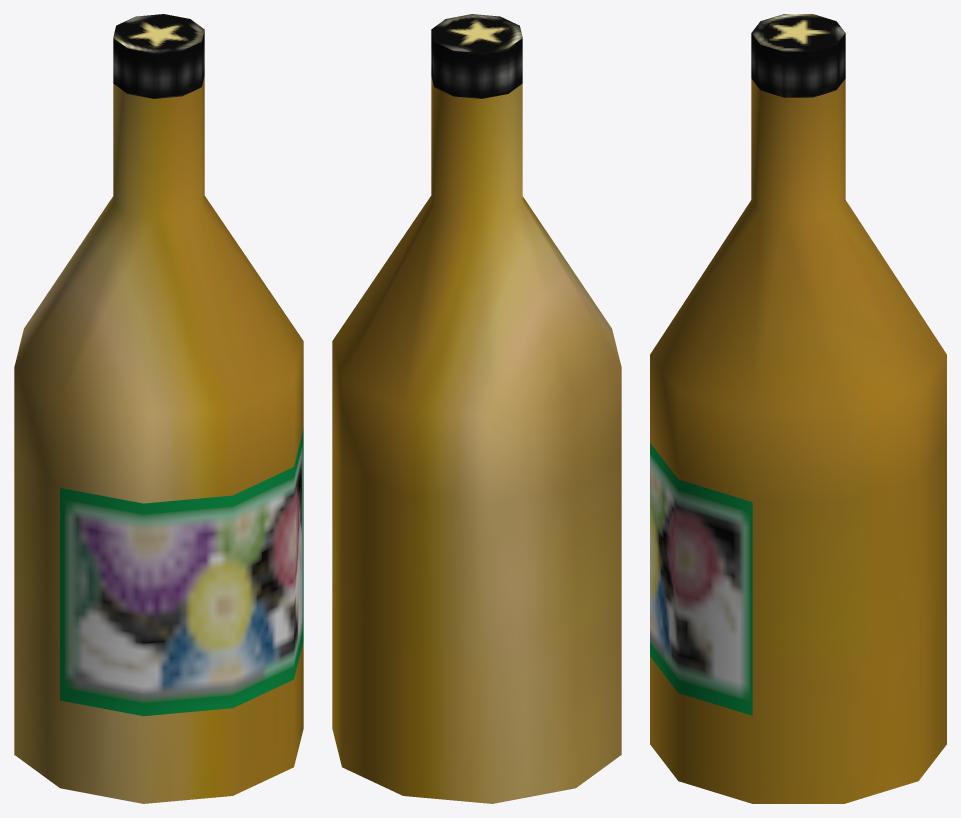
The model's file is giftgoods082d.fbx.
3 renders of one model, left to right at view 1: azimuth 30°, elevation 25°; view 2: azimuth 150°, elevation 25°; view 3: azimuth 270°, elevation 25°, orthographic.
Visible parts, largest first — view 1: giftgoods082d; view 2: giftgoods082d; view 3: giftgoods082d.
Boxes of the visible parts, box(x1,y1,x2,y2) form: giftgoods082d: box(14, 14, 303, 803); giftgoods082d: box(332, 14, 621, 803); giftgoods082d: box(650, 14, 946, 803).
Bounding box in the file's own units: 0.1193 × 0.3317 × 0.1255.
